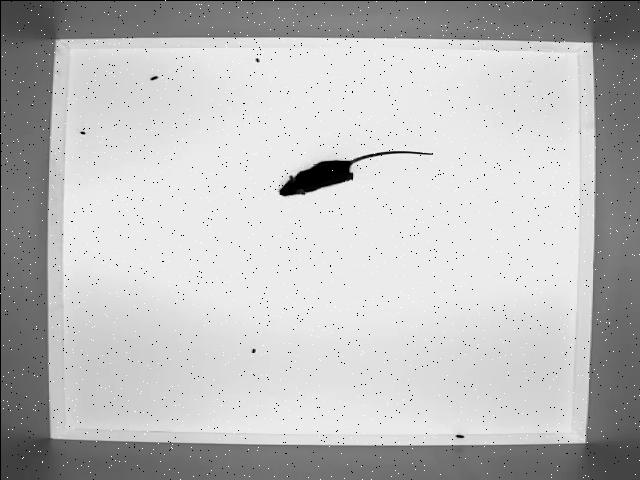Tikus: (274, 146, 434, 198)
